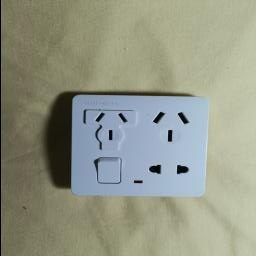outlet: (59, 84, 207, 203)
